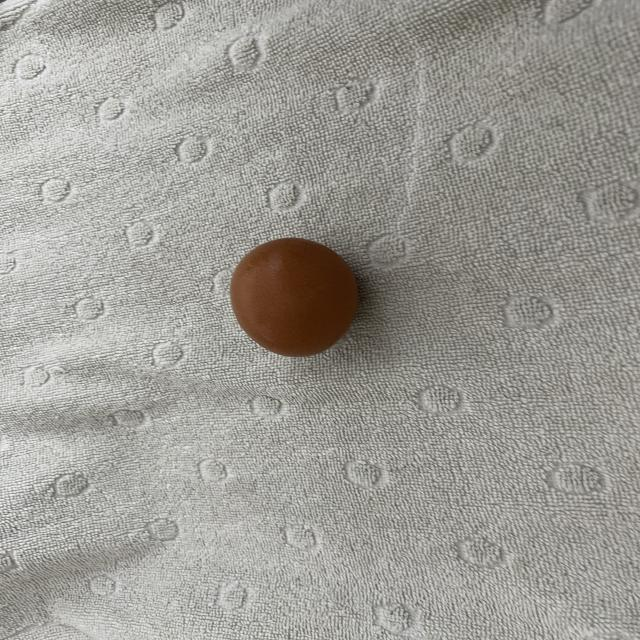egg: (224, 236, 364, 362)
